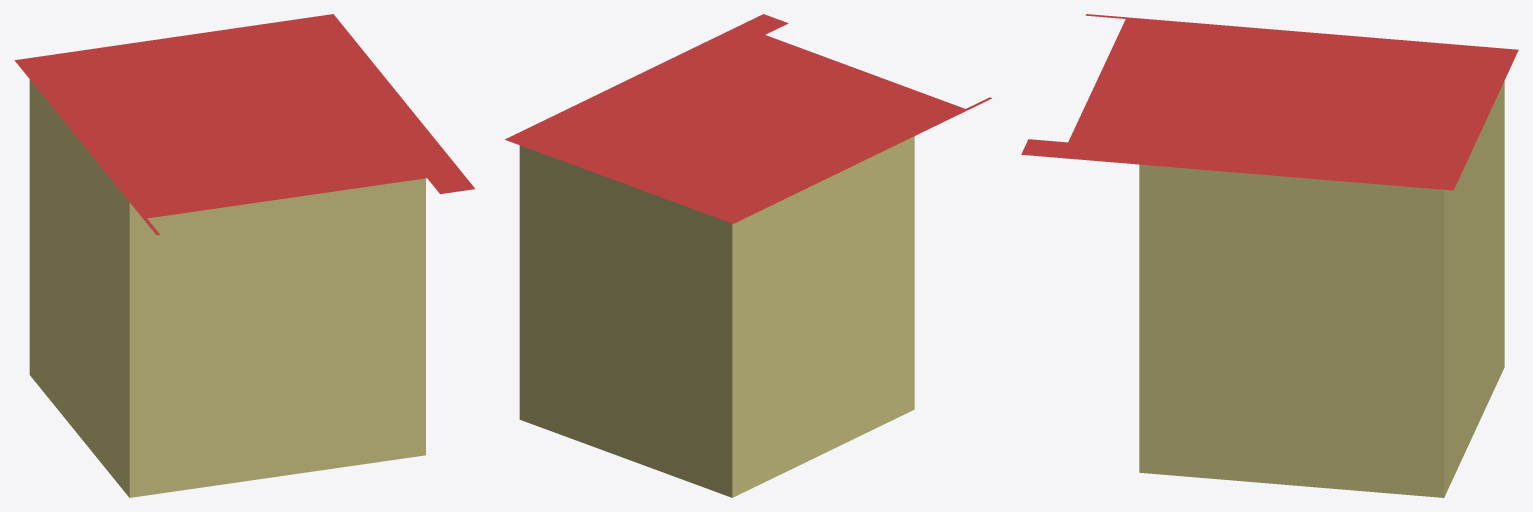
3 renders of one model, left to right at view 1: azimuth 30°, elevation 25°; view 2: azimuth 150°, elevation 25°; view 3: azimuth 270°, elevation 25°, orthographic. The views are drawn at different scales.
Bounding box in the file's own units: 8.66 × 10.31 × 7.17.
